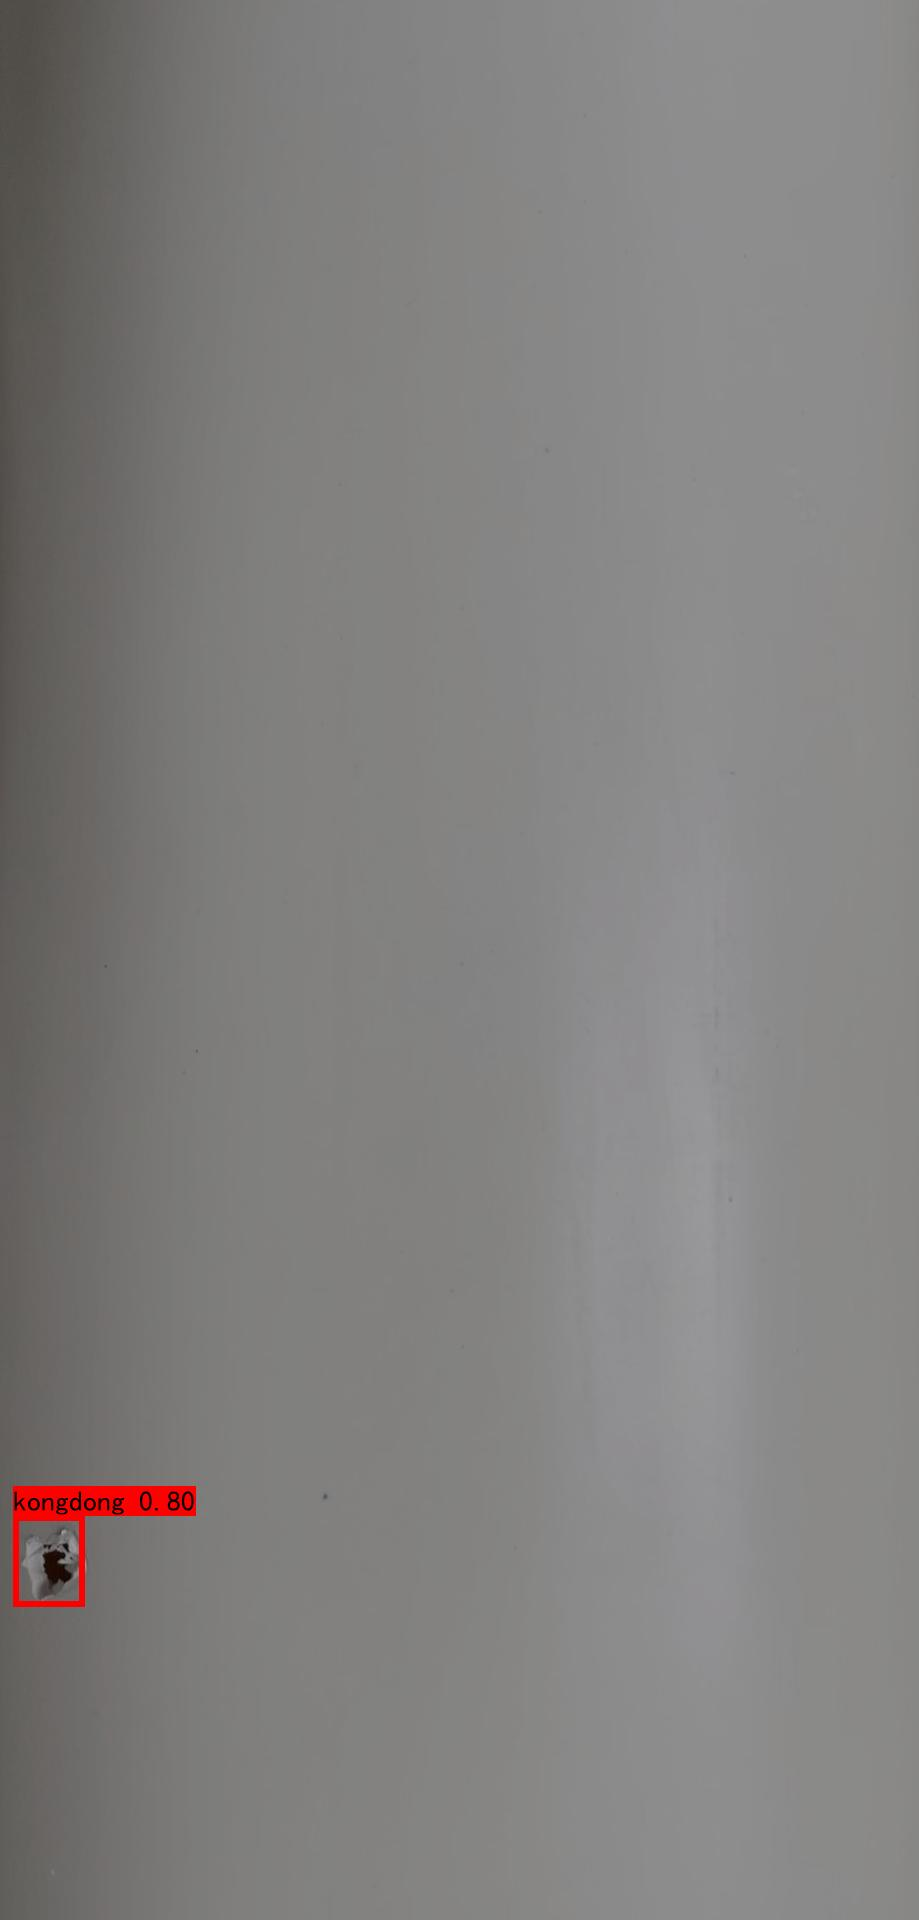kongdong: (29, 1524, 111, 1618)
